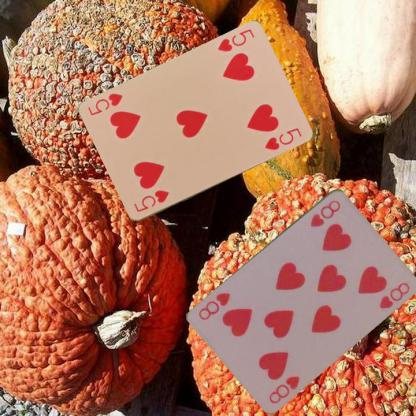5h: (215, 26, 256, 54), (131, 188, 171, 214)
8h: (265, 373, 301, 405), (308, 197, 344, 228)
